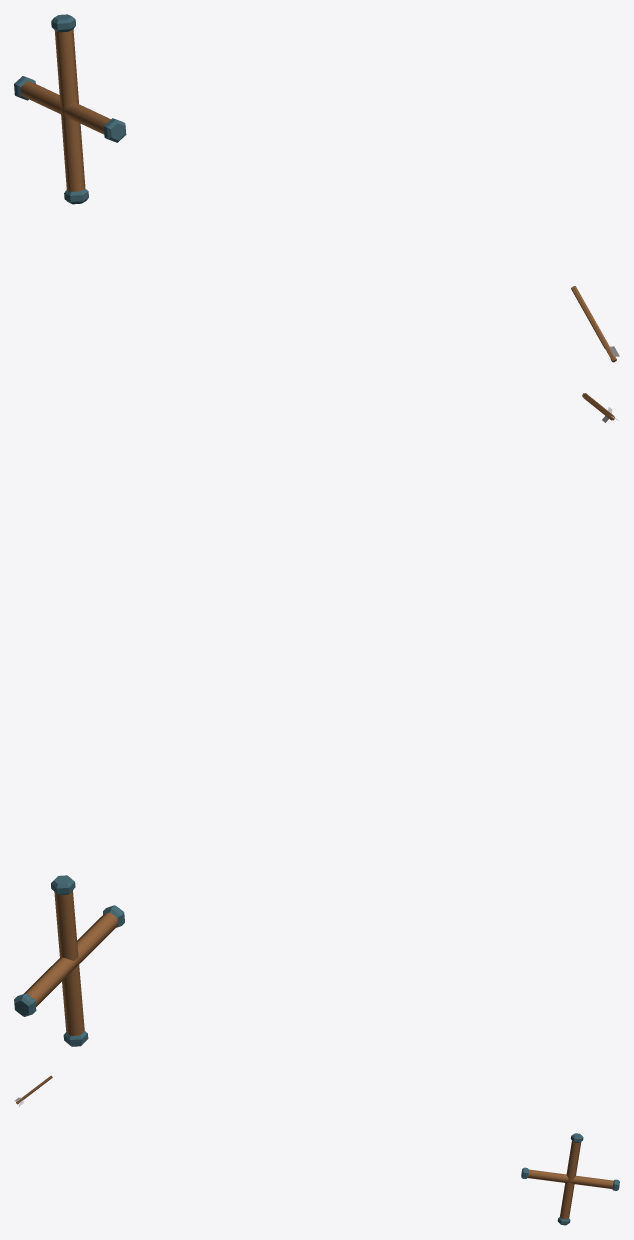
3 renders of one model, top to bottom at view 1: azimuth 30°, elevation 25°; view 2: azimuth 150°, elevation 25°; view 3: azimuth 270°, elevation 25°, orthographic. The views are drawn at different scales.
Visible parts, largest first — view 1: Cylinder1229_brown_0, Cylinder1230_brown_0, Cylinder1229_metal_0, Cylinder1230_metal_0, Cylinder1271_brown_0; view 2: Cylinder1229_brown_0, Cylinder1230_brown_0; view 3: Cylinder1229_brown_0, Cylinder1230_brown_0.
Part boxes in pixels (bbox=[...]): Cylinder1229_brown_0: bbox=[54, 29, 85, 191]; Cylinder1230_brown_0: bbox=[21, 81, 110, 134]; Cylinder1229_metal_0: bbox=[51, 14, 88, 204]; Cylinder1230_metal_0: bbox=[14, 76, 126, 142]; Cylinder1271_brown_0: bbox=[571, 286, 616, 362]; Cylinder1229_brown_0: bbox=[54, 890, 84, 1035]; Cylinder1230_brown_0: bbox=[24, 912, 117, 1006]; Cylinder1229_brown_0: bbox=[560, 1141, 581, 1219]; Cylinder1230_brown_0: bbox=[528, 1169, 613, 1188].
Bounding box in the file's own units: 14.74 × 203 × 763.
